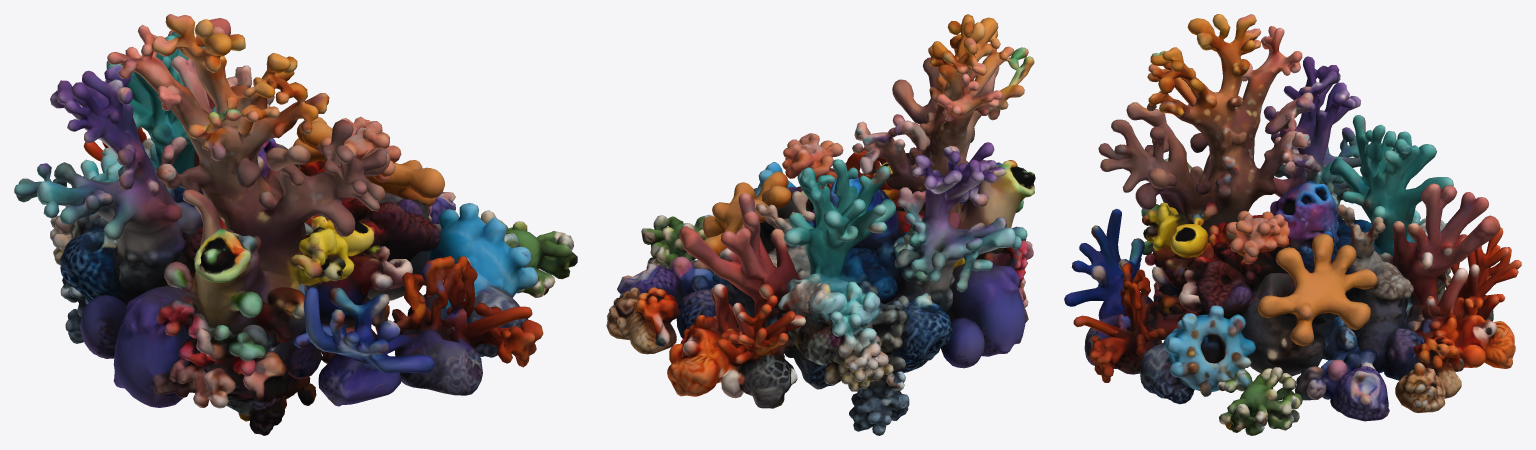
File: nature-coral.glb
3 views of the same model, side by side, from view 1: azimuth 30°, elevation 25°; view 2: azimuth 150°, elevation 25°; view 3: azimuth 270°, elevation 25° (orthographic). The views are drawn at different scales.
Parts seen in each view (by area): view 1: tripo_node_de77bc3a-92df-45a4-bf51-bfa2b08a2b6c; view 2: tripo_node_de77bc3a-92df-45a4-bf51-bfa2b08a2b6c; view 3: tripo_node_de77bc3a-92df-45a4-bf51-bfa2b08a2b6c.
Boxes of the visible parts, <box> form: tripo_node_de77bc3a-92df-45a4-bf51-bfa2b08a2b6c: <box>14,14,577,435</box>; tripo_node_de77bc3a-92df-45a4-bf51-bfa2b08a2b6c: <box>606,14,1035,435</box>; tripo_node_de77bc3a-92df-45a4-bf51-bfa2b08a2b6c: <box>1064,14,1521,435</box>.
Size of the model in its own units: 2.49 by 2 by 2.56.
1 material, 1 textured.
